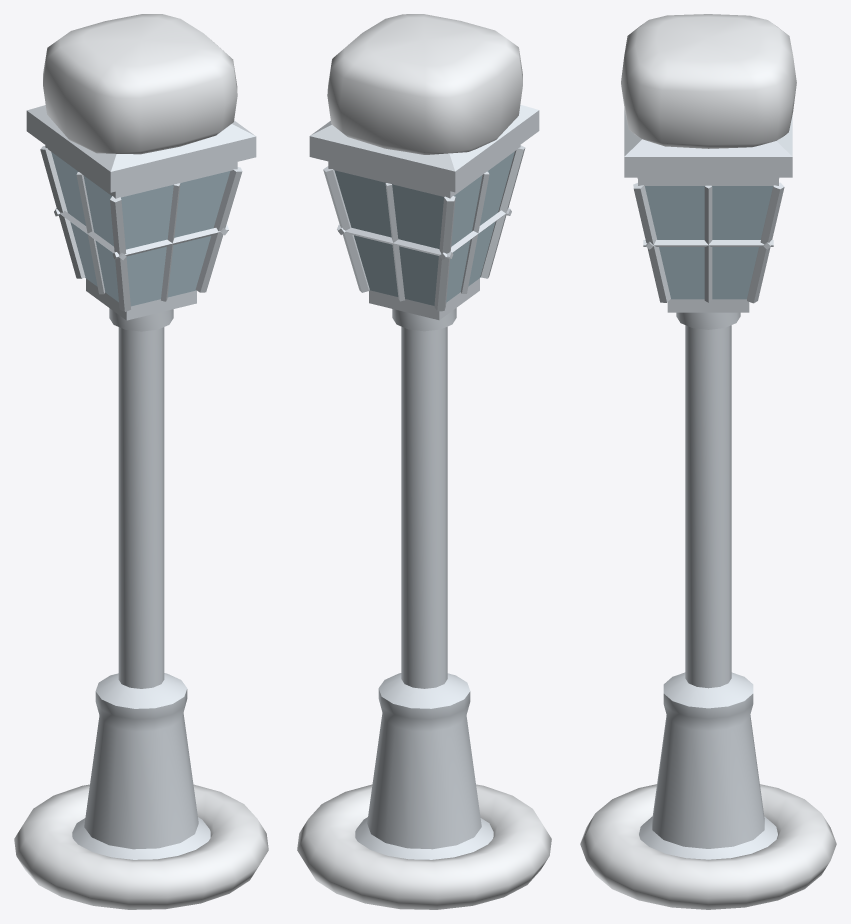
The model's file is SnowyLampPost.obj.
The picture shows the model from 3 angles, left to right: view 1: azimuth 30°, elevation 25°; view 2: azimuth 150°, elevation 25°; view 3: azimuth 270°, elevation 25°; orthographic projection.
Visible parts, largest first — view 1: Main, Glass; view 2: Main, Glass; view 3: Main, Glass.
Part boxes in pixels (x1,y1,x2,y2): Main: (14,14,268,909); Glass: (51,152,230,306); Main: (297,14,551,909); Glass: (334,151,514,305); Main: (580,14,836,909); Glass: (645,186,772,299).
Size of the model in its own units: 3.34 by 11.9 by 3.34.
2 materials, 2 textured.
